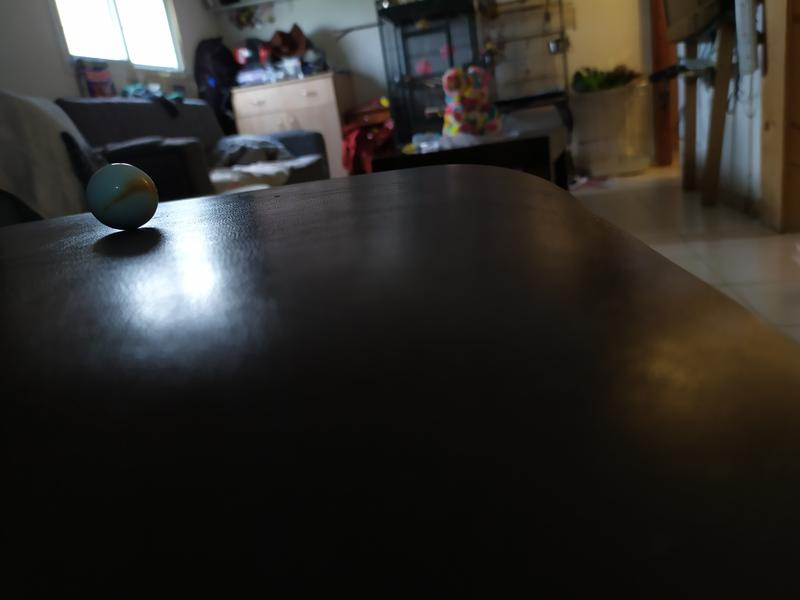Warning: (83, 161, 160, 233)
